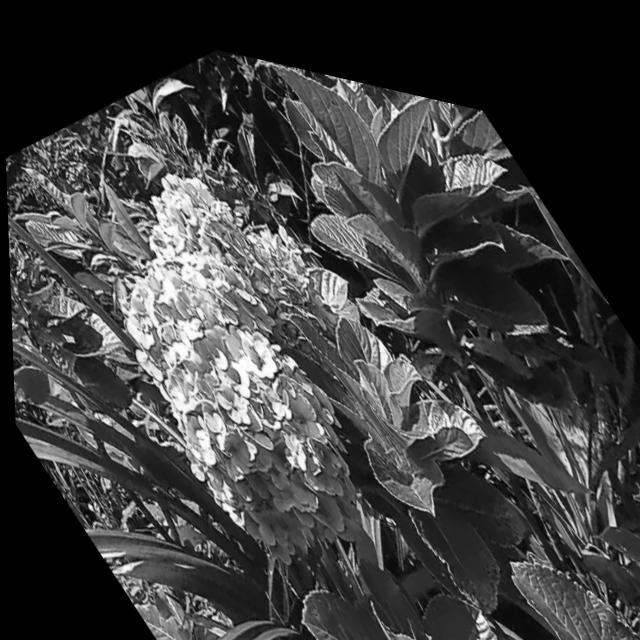Flower: (74, 184, 400, 591)
